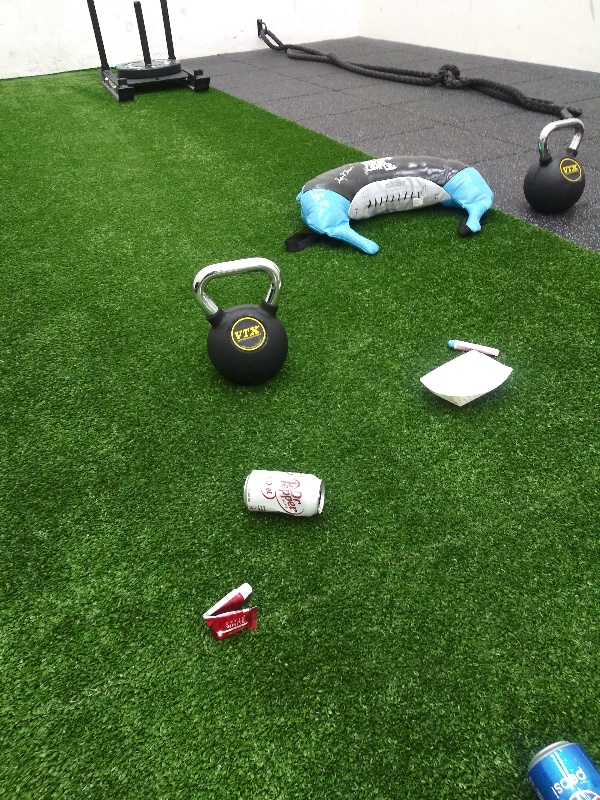can: (510, 732, 600, 798), (238, 462, 330, 518)
plate: (415, 350, 517, 408)
